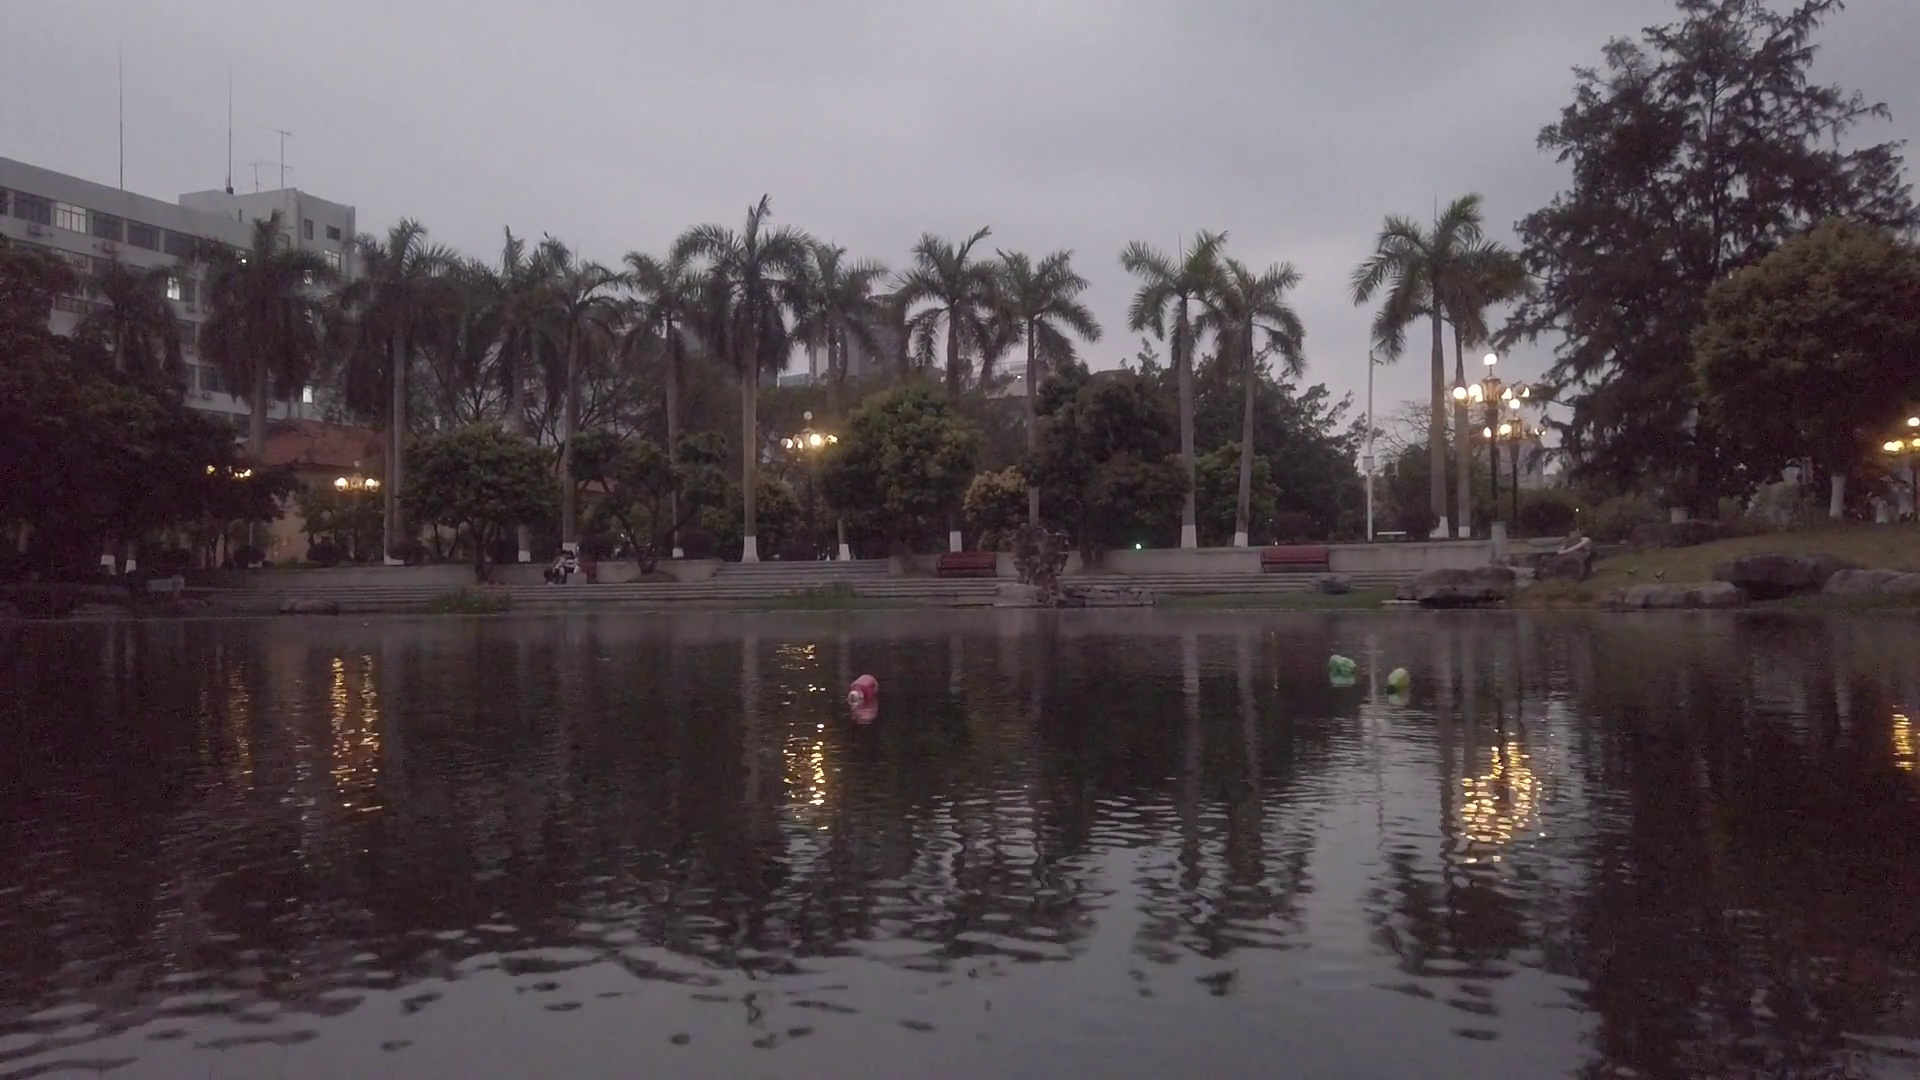bottle: (847, 673, 880, 704), (1327, 653, 1360, 675), (1386, 665, 1411, 694)
